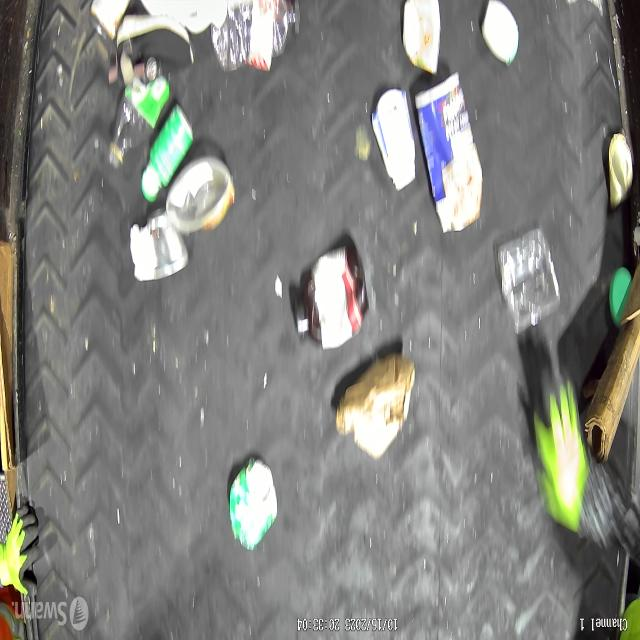can: (228, 456, 278, 549)
plastic_bottle: (106, 58, 168, 170), (211, 0, 300, 71)
